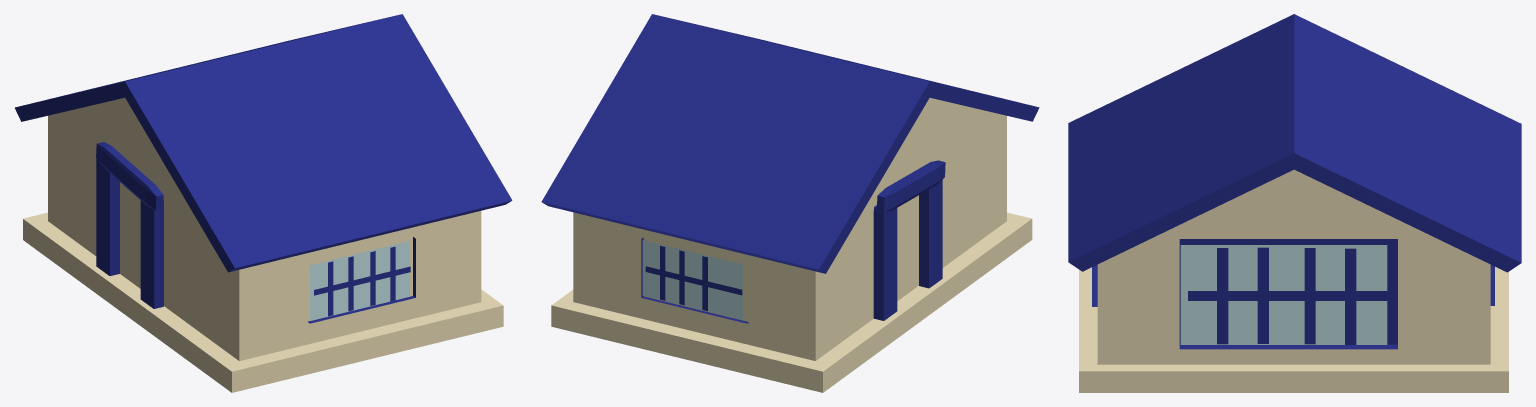
The model's file is hus_rik.gltf.
The picture shows the model from 3 angles, left to right: view 1: azimuth 30°, elevation 25°; view 2: azimuth 150°, elevation 25°; view 3: azimuth 270°, elevation 25°; orthographic projection. The views are drawn at different scales.
Visible parts, largest first — view 1: tak.018, hus.018, dorr.001, windowrik.002, windowram.007; view 2: tak.018, hus.018, dorr.001, windowrik.001, windowram.005; view 3: tak.018, hus.018, windowrik, windowram.006.
Part boxes in pixels (bbox=[...]): tak.018: bbox=[15, 14, 512, 272]; hus.018: bbox=[23, 98, 503, 392]; dorr.001: bbox=[96, 142, 163, 308]; windowrik.002: bbox=[310, 241, 409, 320]; windowram.007: bbox=[307, 237, 415, 323]; tak.018: bbox=[541, 14, 1039, 273]; hus.018: bbox=[551, 98, 1032, 392]; dorr.001: bbox=[873, 160, 945, 320]; windowrik.001: bbox=[642, 240, 742, 319]; windowram.005: bbox=[641, 237, 748, 323]; tak.018: bbox=[1068, 14, 1521, 272]; hus.018: bbox=[1079, 169, 1508, 392]; windowrik: bbox=[1180, 245, 1387, 344]; windowram.006: bbox=[1179, 239, 1397, 349].
Bounding box in the file's own units: 0.1855 × 0.1532 × 0.2554.
